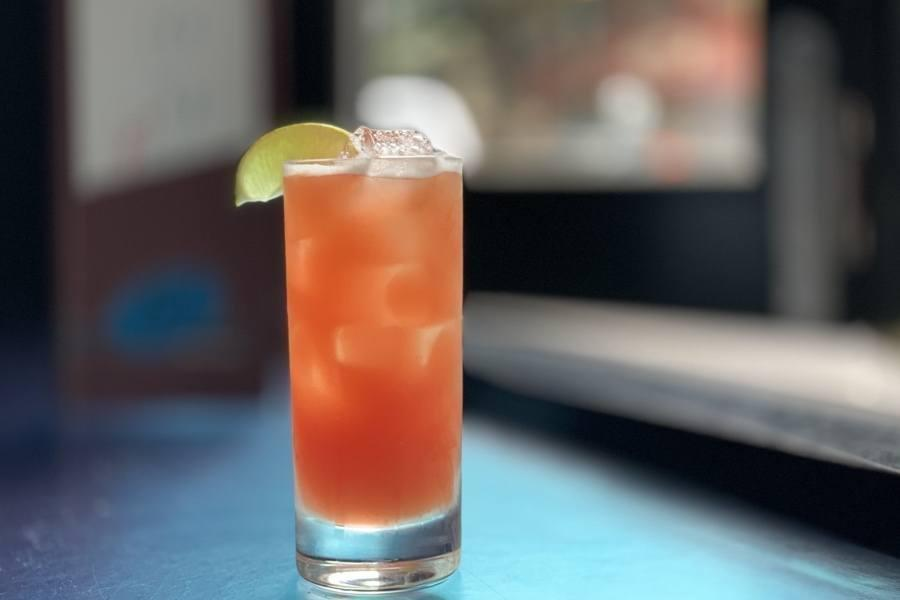glass-normal: (278, 142, 470, 592)
